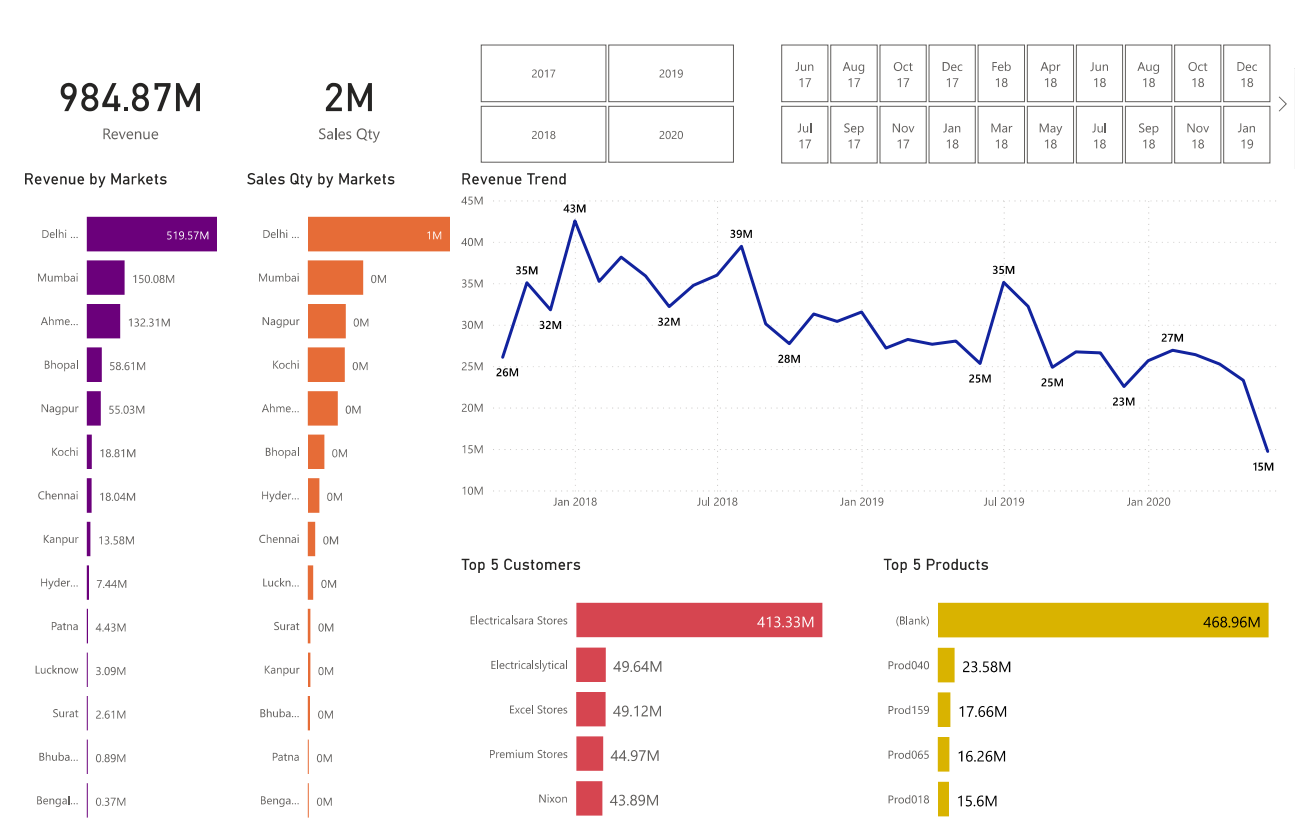

This screenshot's page, from the dashboard's own definition file:
{"tool":"powerbi","page":{"name":"Key Insights","canvas":[1350,850],"ordinal":0},"visuals":[{"type":"card","fields":{"Values":["BaseMeasures.Revenue"]},"box":[0,0,235.7,140.3],"z":0},{"type":"card","fields":{"Values":["BaseMeasures.Sales Qty"]},"box":[235.7,0,227,140.3],"z":1000},{"type":"barChart","title":"Revenue by Markets","fields":{"Y":["BaseMeasures.Revenue"],"Category":["sales markets.markets_name"]},"box":[0,140.3,235.7,710],"z":2000},{"type":"barChart","title":"Sales Qty by Markets","fields":{"Y":["BaseMeasures.Sales Qty"],"Category":["sales markets.markets_name"]},"box":[235.7,140.3,227,710],"z":3000},{"type":"slicer","fields":{"Values":["sales date.year"]},"box":[463.2,1.4,317.5,138.5],"z":4000},{"type":"slicer","fields":{"Values":["sales date.cy_date"]},"box":[780.7,1.4,568.6,140],"z":5000},{"type":"barChart","title":"Top 5 Customers","fields":{"Category":["sales customers.custmer_name"],"Y":["BaseMeasures.Revenue"]},"box":[462.7,548,446.8,300.8],"z":6000},{"type":"barChart","title":"Top 5 Products","fields":{"Category":["sales products.product_code"],"Y":["BaseMeasures.Revenue"]},"box":[909.5,548,441,302.2],"z":7000},{"type":"lineChart","title":"Revenue Trend","fields":{"Y":["BaseMeasures.Revenue"],"Category":["sales date.cy_date"]},"box":[462.7,140.3,887.9,370.2],"z":8000}]}

Visuals, with their boxes in screenshot pixels (x1, y1, x2, y2), scaled from the page's 1350x850 canvas onto the 1300x837 screenshot:
card - BaseMeasures.Revenue: crop(0, 0, 227, 138)
card - BaseMeasures.Sales Qty: crop(227, 0, 446, 138)
"Revenue by Markets" barChart: crop(0, 138, 227, 836)
"Sales Qty by Markets" barChart: crop(227, 138, 446, 836)
slicer - sales date.year: crop(446, 1, 752, 138)
slicer - sales date.cy_date: crop(752, 1, 1299, 139)
"Top 5 Customers" barChart: crop(446, 540, 876, 836)
"Top 5 Products" barChart: crop(876, 540, 1299, 836)
"Revenue Trend" lineChart: crop(446, 138, 1299, 503)
